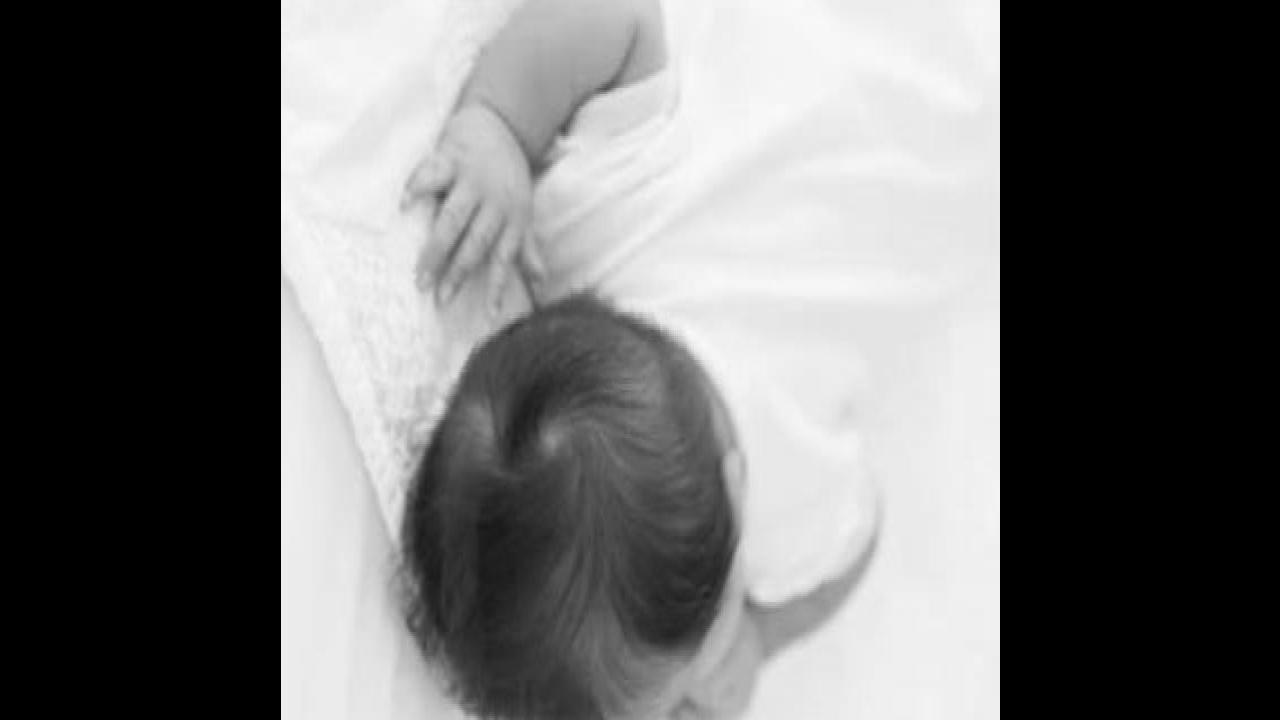hand: (403, 102, 545, 316)
